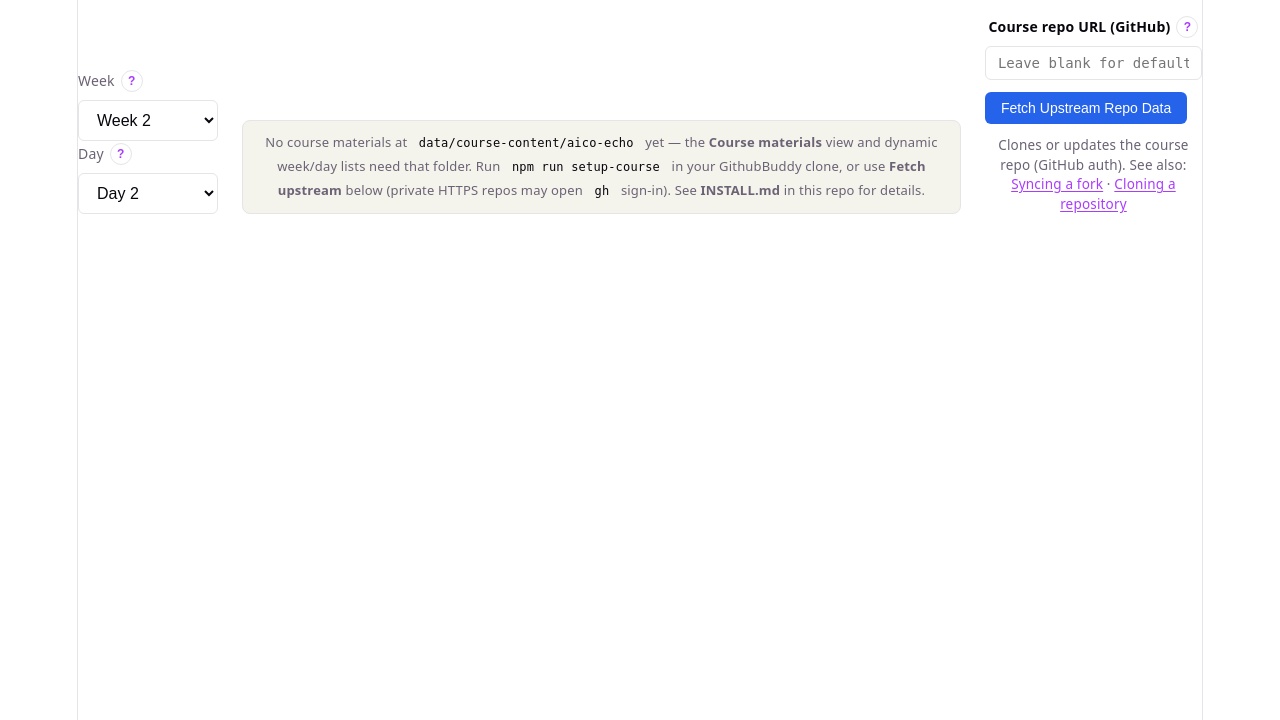
Test: DaySelector › fetch upstream: FETCH_FAILED toast includes GitHub auth guidance
Click the button "Fetch Upstream Repo Data". click: (1086, 108)
box: [985,92,1187,124]
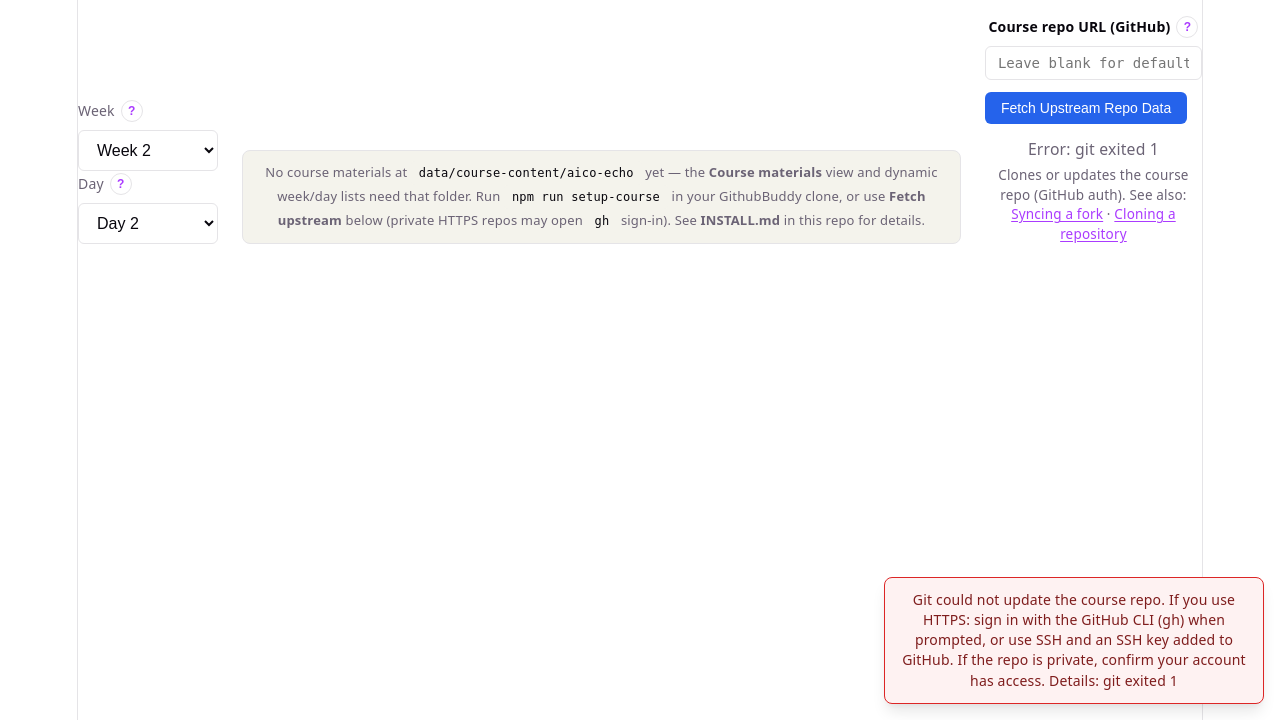
Expected: the text "Git could not update the course repo" is shown, [902,590,1246,690]
